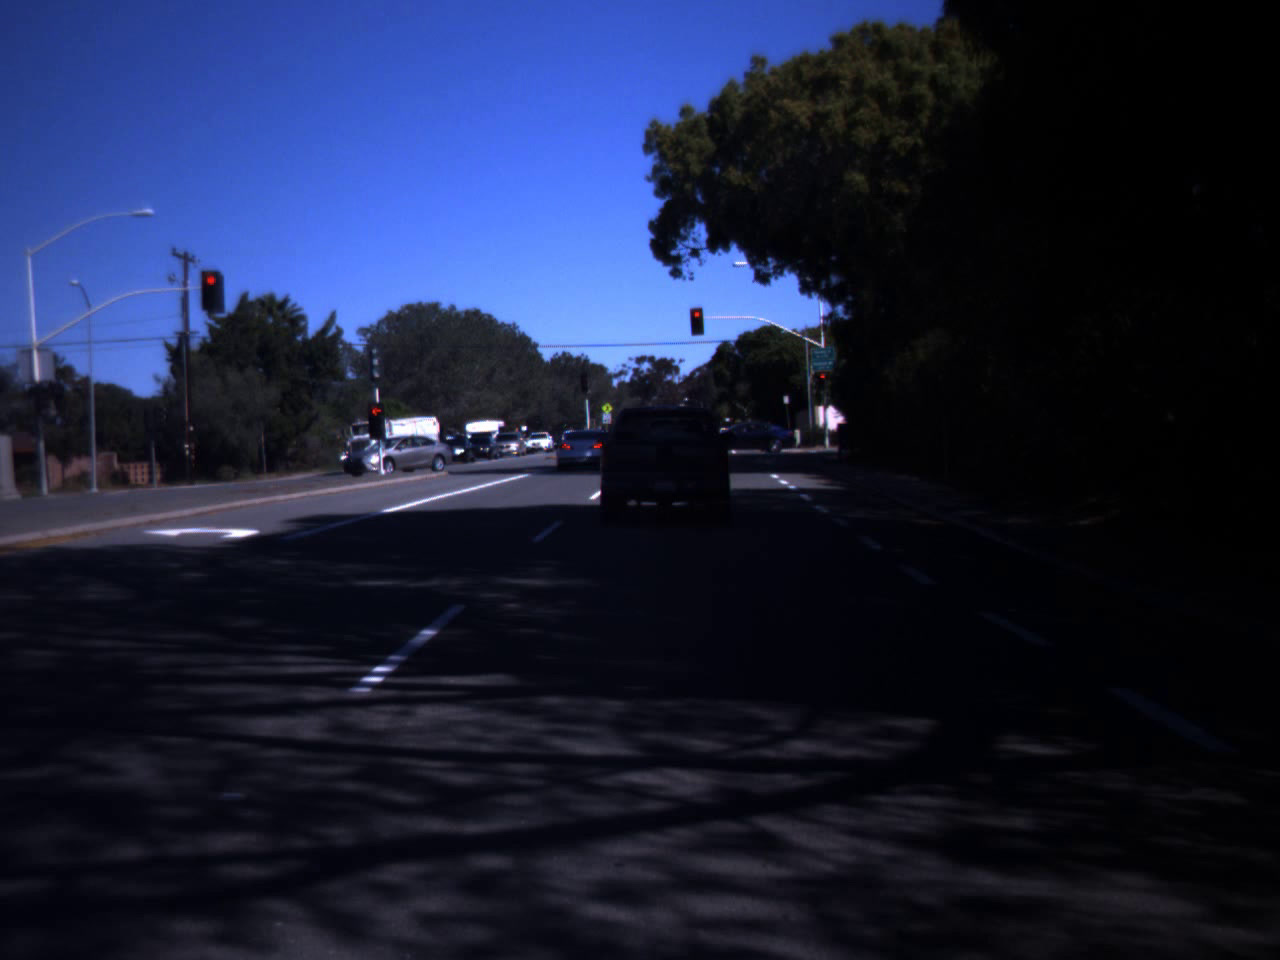stop: (364, 408, 388, 426), (202, 275, 220, 297)
